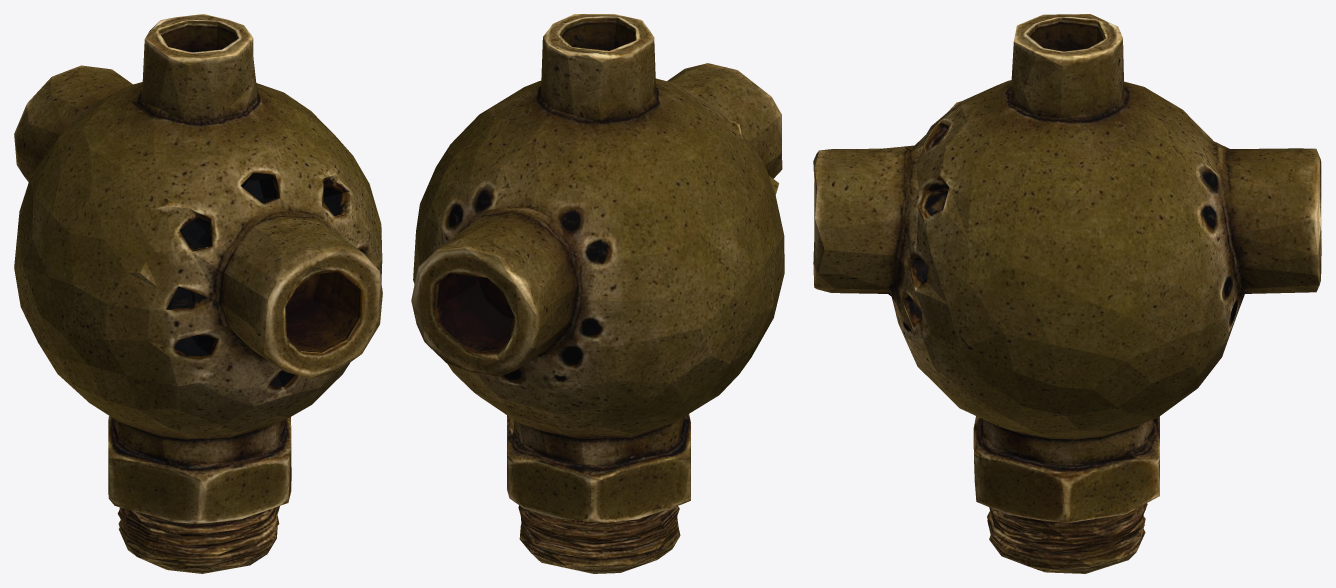
The picture shows the model from 3 angles, left to right: view 1: azimuth 30°, elevation 25°; view 2: azimuth 150°, elevation 25°; view 3: azimuth 270°, elevation 25°; orthographic projection.
Visible parts, largest first — view 1: geometry_0; view 2: geometry_0; view 3: geometry_0.
Part boxes in pixels (box(x1,y1,x2,y2)): geometry_0: box(14, 14, 382, 573); geometry_0: box(411, 14, 784, 573); geometry_0: box(813, 14, 1321, 573).
Bounding box in the file's own units: 0.6464 × 1 × 0.8958.
1 material, 1 textured.
